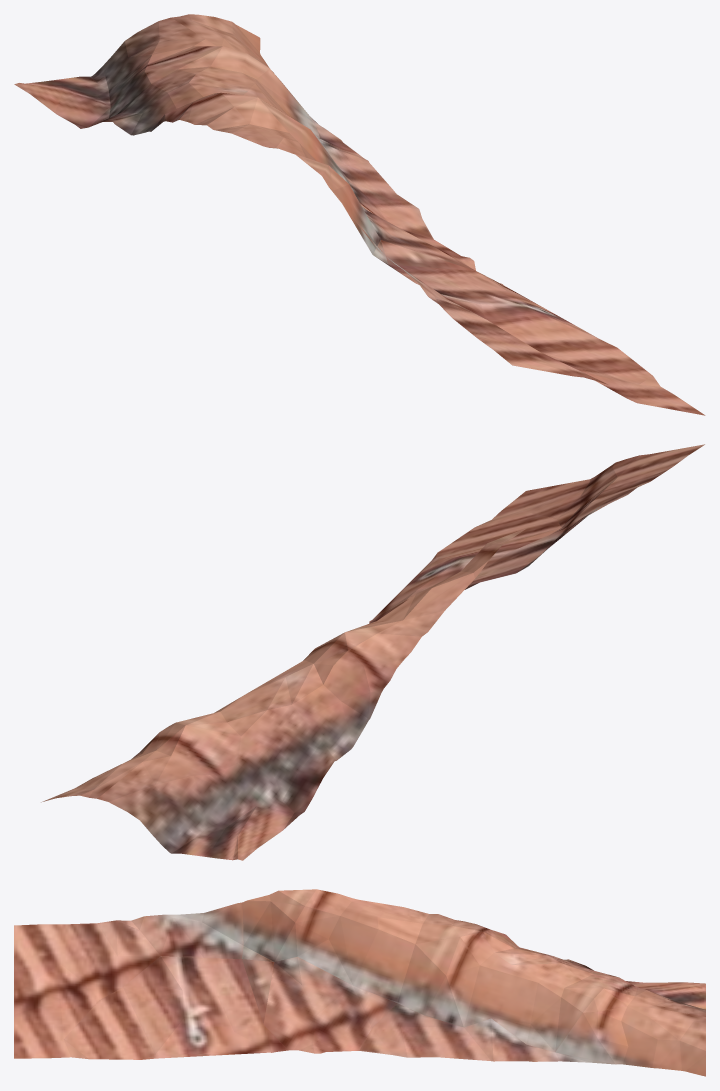
3 renders of one model, top to bottom at view 1: azimuth 30°, elevation 25°; view 2: azimuth 150°, elevation 25°; view 3: azimuth 270°, elevation 25°, orthographic. The views are drawn at different scales.
Size of the model in its own units: 0.478 by 0.2774 by 1.67.
1 material, 1 textured.
